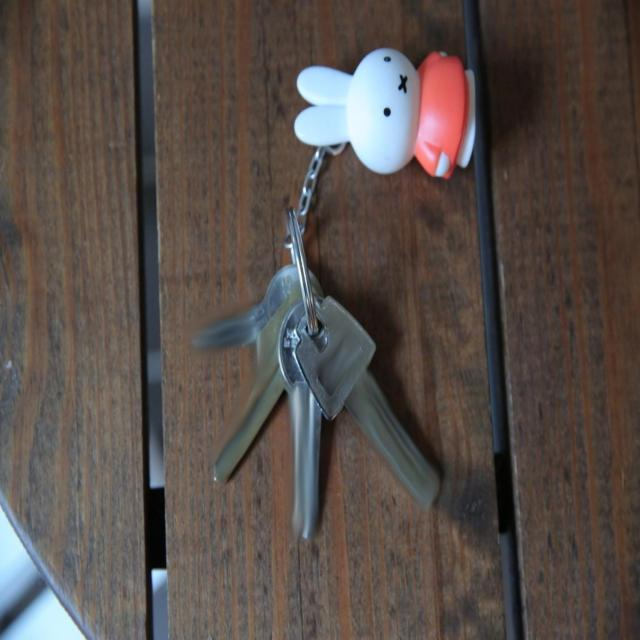Frontdoor keys: (307, 258, 440, 552), (185, 255, 309, 356)
